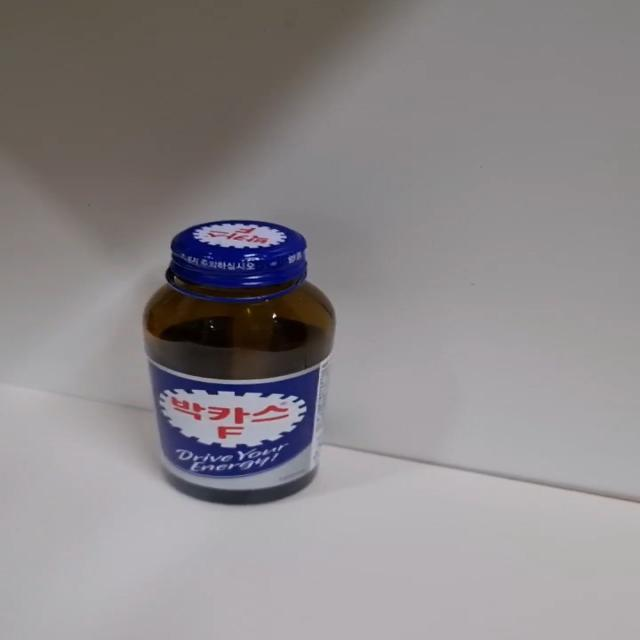Glass: (140, 220, 338, 507)
